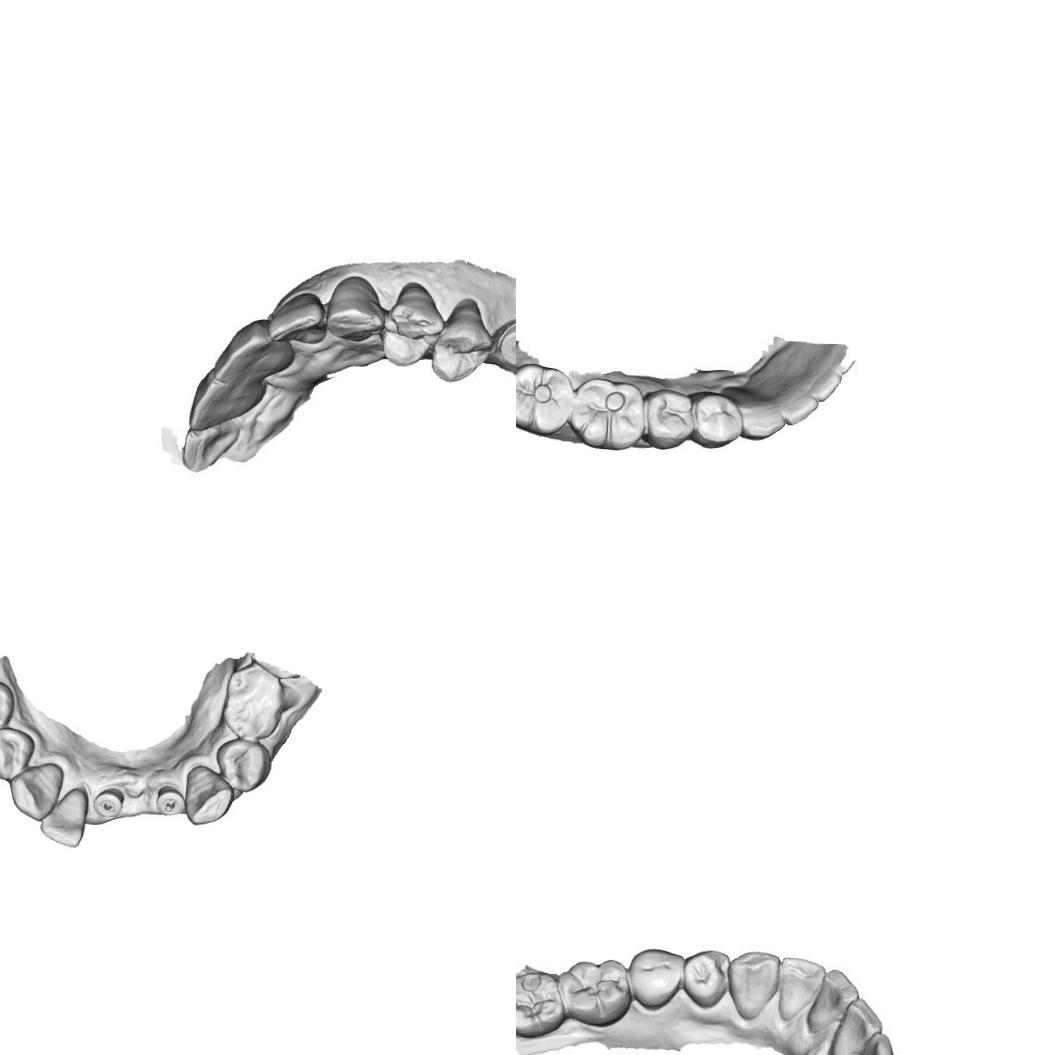canine: (724, 946, 780, 1022), (6, 760, 65, 823), (182, 762, 236, 828), (327, 278, 380, 336), (735, 398, 784, 442)
implant: (495, 312, 516, 367)
implant_minus: (90, 786, 124, 822), (154, 783, 186, 817)
incisor: (218, 321, 294, 377), (185, 374, 268, 424), (806, 967, 857, 1037), (38, 786, 90, 850), (181, 424, 252, 470), (775, 956, 824, 1021), (830, 997, 883, 1055), (263, 294, 322, 340), (798, 363, 844, 402), (776, 392, 816, 426)
molar: (220, 662, 288, 742), (560, 956, 632, 1030), (572, 376, 644, 447), (516, 364, 573, 430), (516, 967, 565, 1038)
premolar: (380, 278, 442, 362), (435, 300, 493, 380), (627, 944, 684, 1012), (213, 737, 273, 794), (682, 948, 732, 1014), (646, 394, 698, 449), (696, 393, 744, 444), (0, 725, 38, 782), (0, 678, 16, 736)
